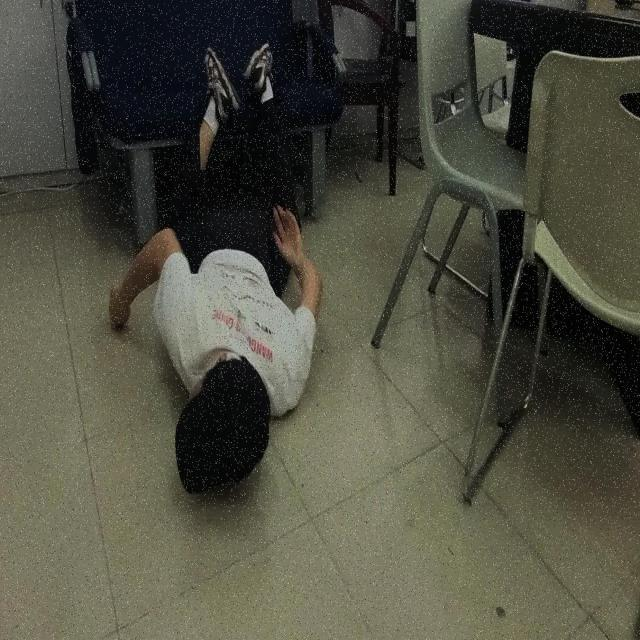fall: (107, 41, 327, 502)
